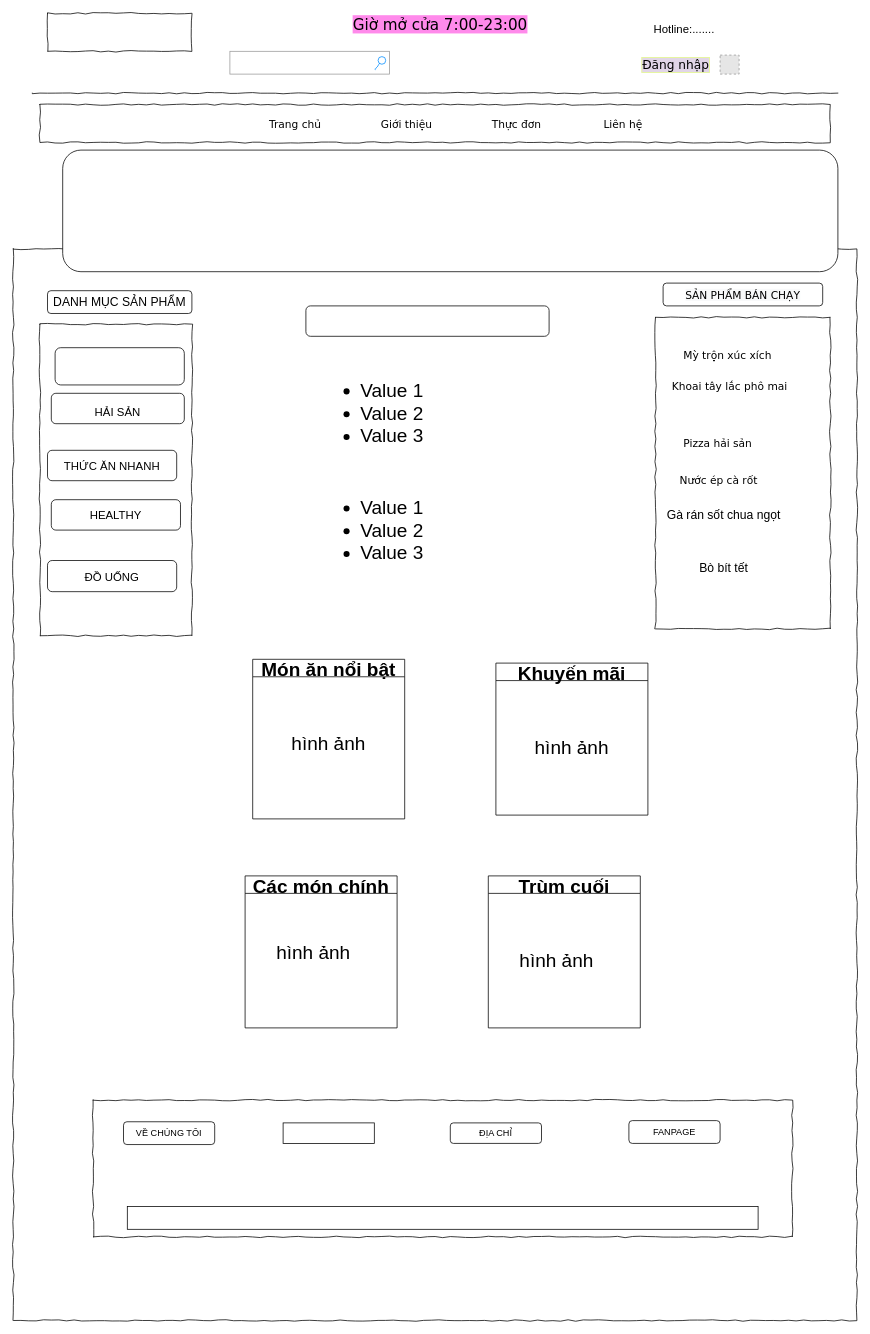
This 870x1334 diagram has some shape labels left out. Grey dashed boxes stand in for pictures. Each missing label, with the box of its shape:
Bạn muốn mua gì ?: (229, 51, 390, 74)
coppy right: (127, 1206, 758, 1229)
Hôm nay ăn gì ?: (305, 305, 549, 336)
LOGO: (47, 13, 192, 51)
SLIDE SHOW CHUYỂN ẢNH: (62, 149, 838, 272)
THÔNG TIN LIÊN HỆ: (282, 1122, 374, 1143)
THỰC ĐƠN HÔM NAY: (54, 347, 184, 385)
